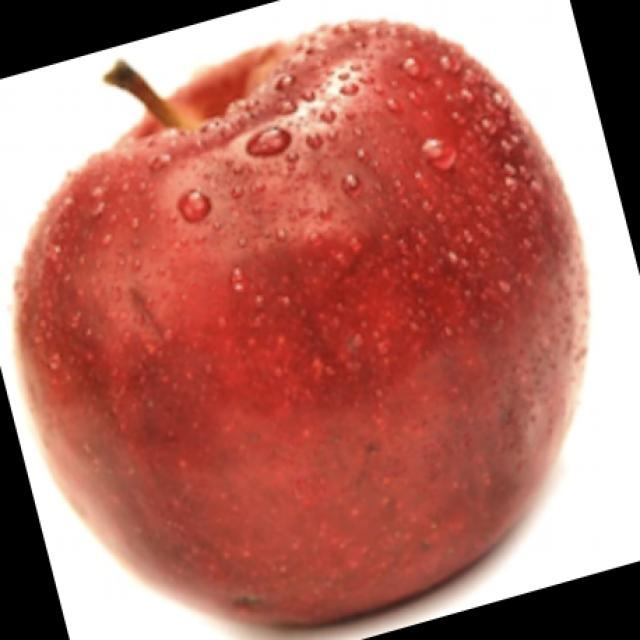Fresh Apple: (37, 42, 585, 608)
